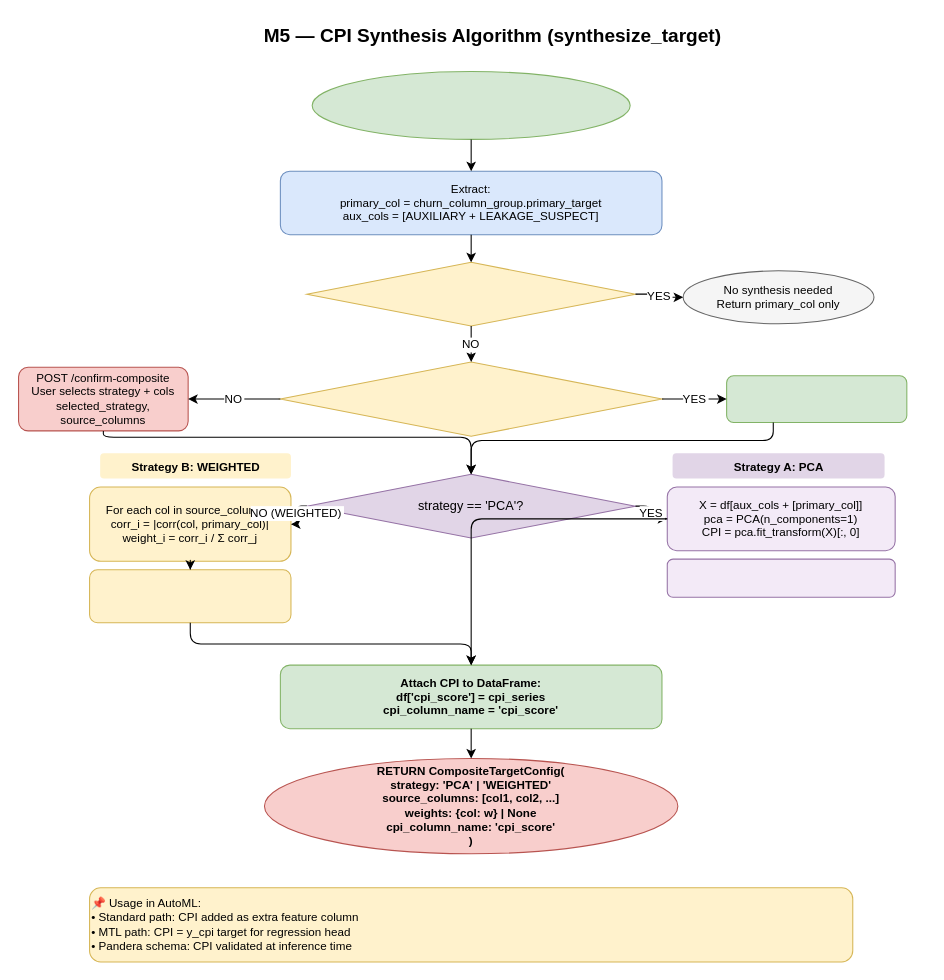
Some shapes in this 944 by 980 pixel diagram are drawn without their labels. Here are the shapes that lost their labels. From the top down, the centre of each, then its label:
At (x=470, y=104): "START Input: churn_column_group (PRIMARY + AUXILIARY cols)".
At (x=470, y=293): "len(aux_cols) == 0?".
At (x=470, y=398): "len(aux_cols) ≤ CPI_AUTO_THRESHOLD (=2)?".
At (x=816, y=398): "Auto-synthesize (no user confirmation)".
At (x=190, y=596): "CPI = Σ (weight_i × normalize(col_i)) normalize: (x - min) / (max - min)".
At (x=780, y=577): "Variance explained = pca.explained_variance_ratio_[0] (tracked as metadata)".
